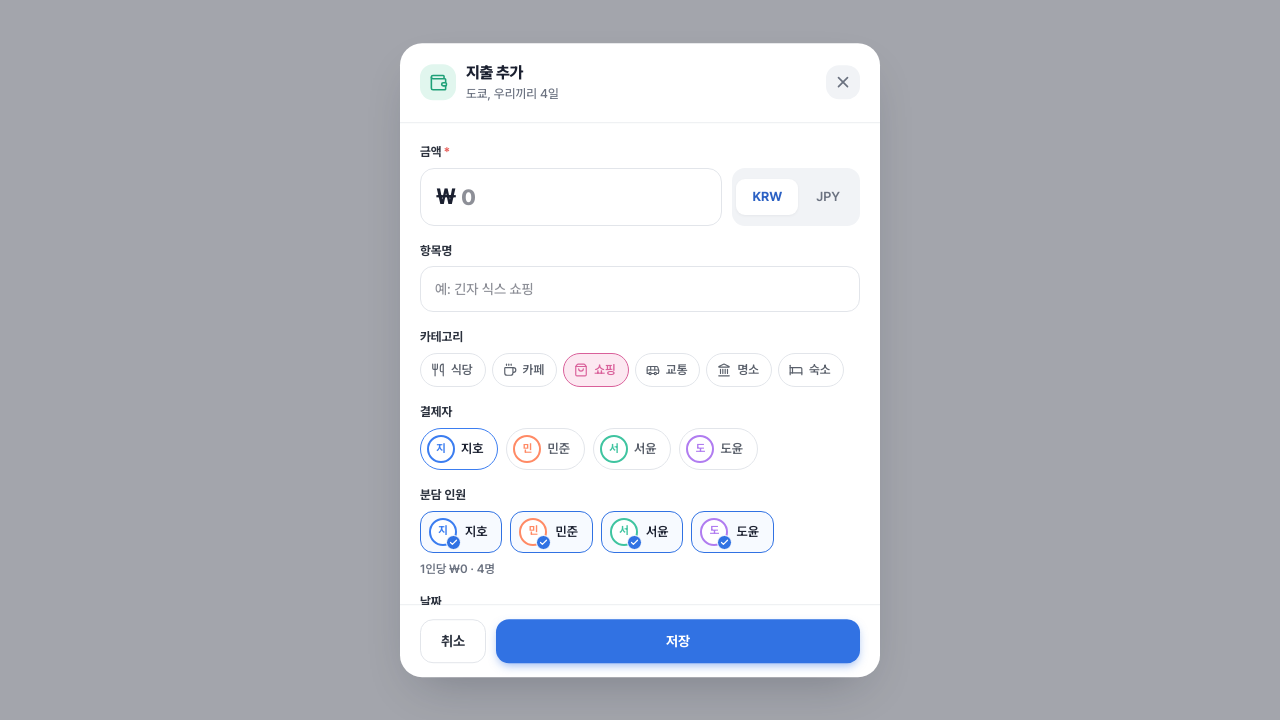
Test case: ExpenseOverlay › 금액 미입력이면 에러 배너 + 저장 차단
Check: the heading "지출 추가" is shown, box [466,63,523,82]
Click the button "저장": click(678, 641) [496,619,860,663]
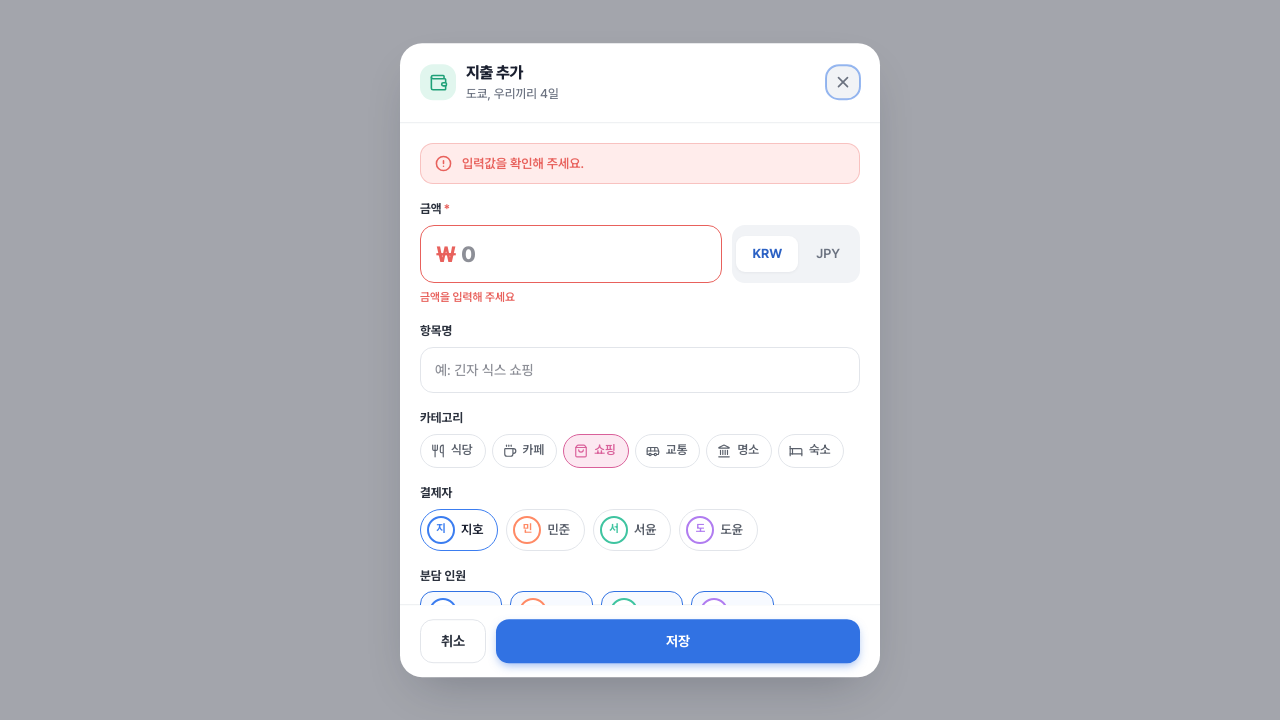
Check: the text "입력값을 확인해 주세요." is shown, box [462,154,584,174]
